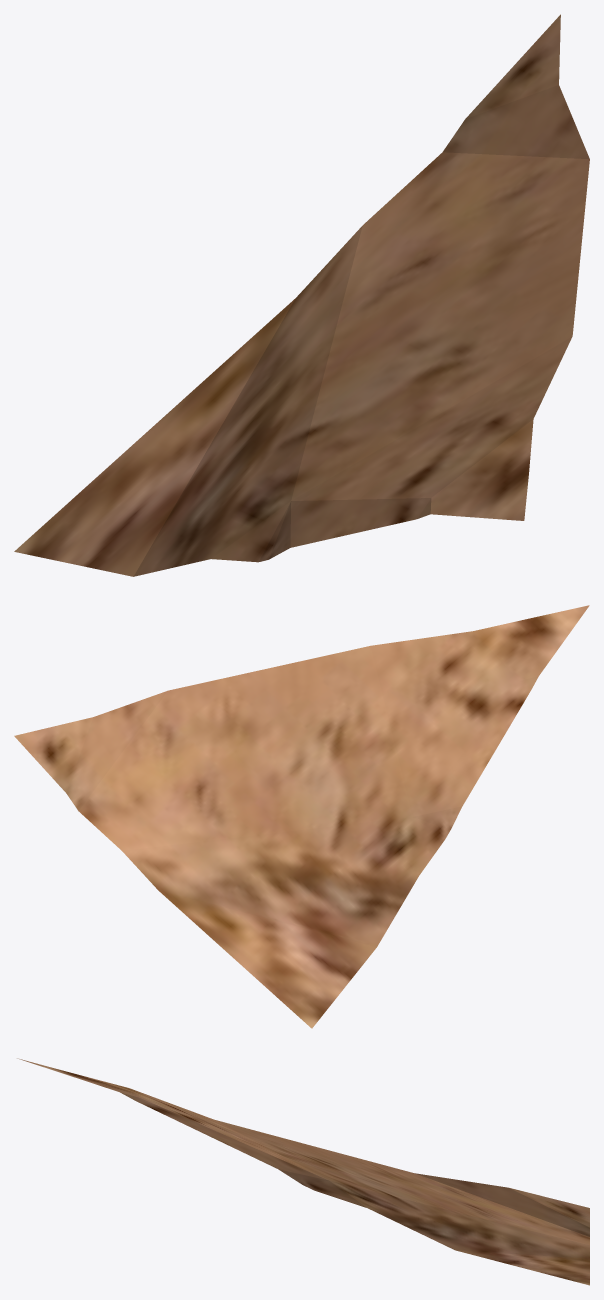
3 views of the same model, one above another, from view 1: azimuth 30°, elevation 25°; view 2: azimuth 150°, elevation 25°; view 3: azimuth 270°, elevation 25° (orthographic). The views are drawn at different scales.
Bounding box in the file's own units: 0.2064 × 0.1458 × 0.3336.
1 material, 1 textured.
